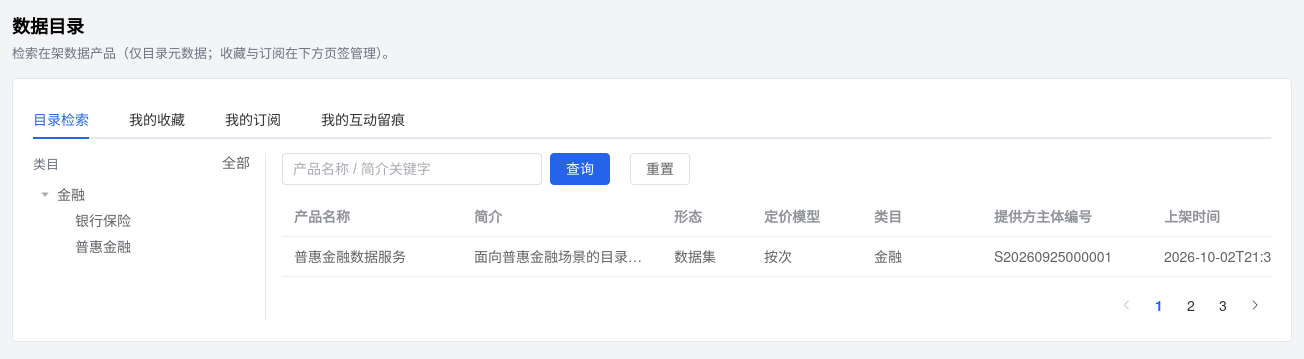
Scenario: 门户检索（T4） › 翻页按新页码重新拉取；越界 1000C0001 原样展示且表格保持原数据（不乐观更新）
The width and height of the screenshot is (1304, 359).
Step 1. Click the button with class "btn-next" → (1255, 305), box [1239,289,1271,321]
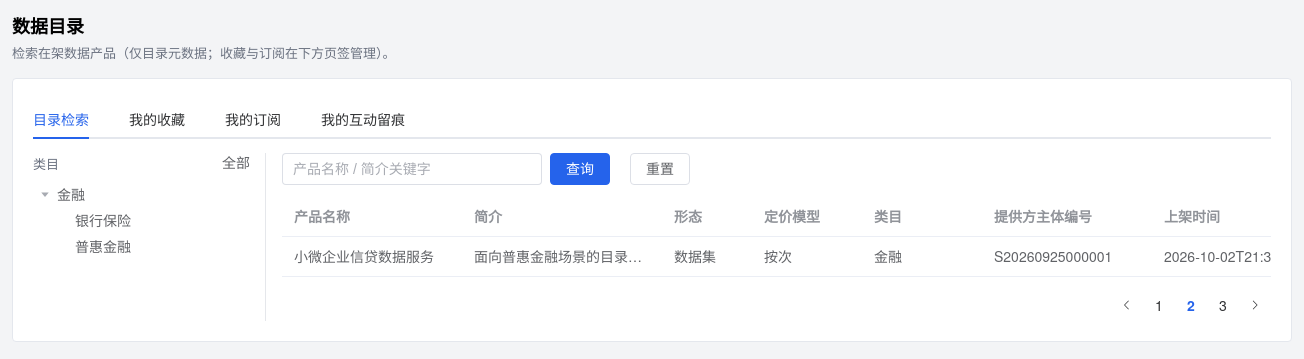
Expected: the text "小微企业信贷数据服务" is shown, [294,246,434,266]
Step 2. Click the button with class "btn-next" → (1255, 305), box [1239,289,1271,321]
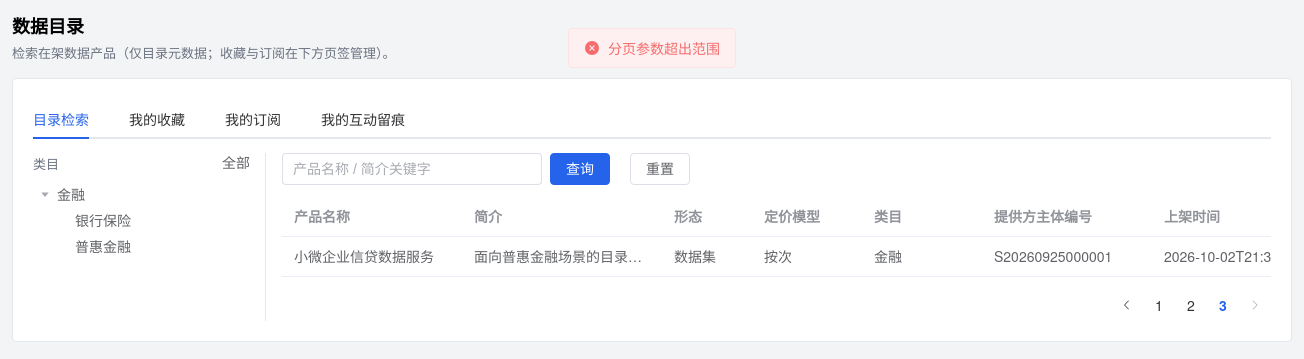
Expected: the text "小微企业信贷数据服务" is shown, [294,246,434,266]
Expected: the text "分页参数超出范围" is shown, [608,41,720,55]
